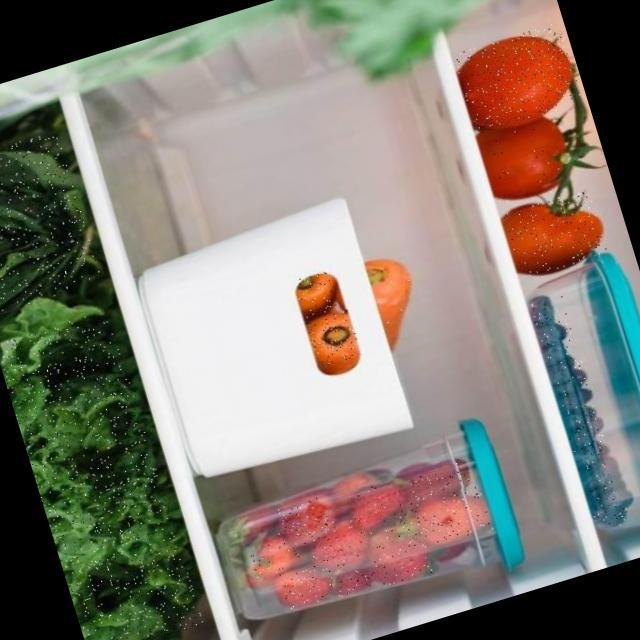Lechuga/Endivia: (0, 309, 203, 640), (0, 128, 101, 317)
Zanahoria: (366, 253, 424, 344), (304, 309, 360, 368), (292, 270, 338, 319)
blueberries: (527, 293, 631, 534)
strawberries: (393, 483, 494, 554), (360, 517, 431, 589), (305, 517, 370, 575), (396, 460, 471, 507), (272, 559, 337, 612), (243, 530, 303, 586), (276, 494, 336, 549), (344, 479, 403, 530), (332, 565, 377, 598)
tomato paste: (451, 22, 583, 135), (480, 109, 585, 204), (501, 188, 607, 279)
